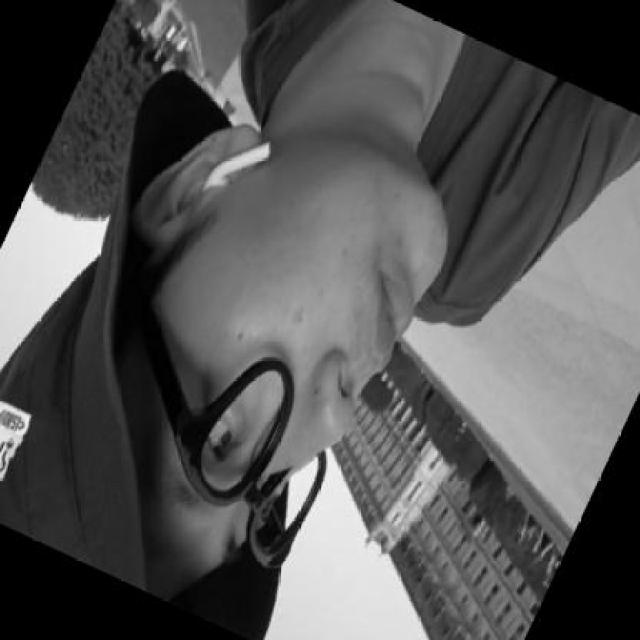earphone: (186, 135, 301, 203)
